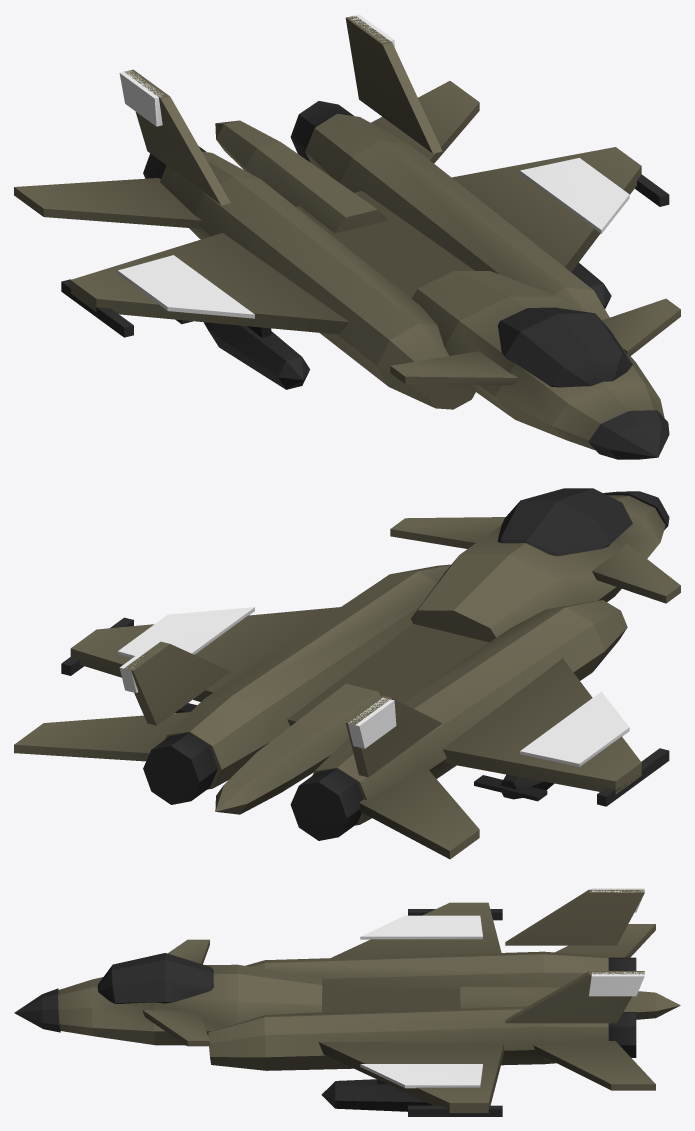
3 renders of one model, top to bottom at view 1: azimuth 30°, elevation 25°; view 2: azimuth 150°, elevation 25°; view 3: azimuth 270°, elevation 25°, orthographic. The views are drawn at different scales.
Visible parts, largest first — view 1: ru-su-34; view 2: ru-su-34; view 3: ru-su-34.
Boxes of the visible parts, x1=… form: ru-su-34: x1=14, y1=14, x2=680, y2=459; ru-su-34: x1=14, y1=488, x2=680, y2=859; ru-su-34: x1=14, y1=888, x2=680, y2=1116.
Size of the model in its own units: 1.7 by 0.4813 by 2.39.
